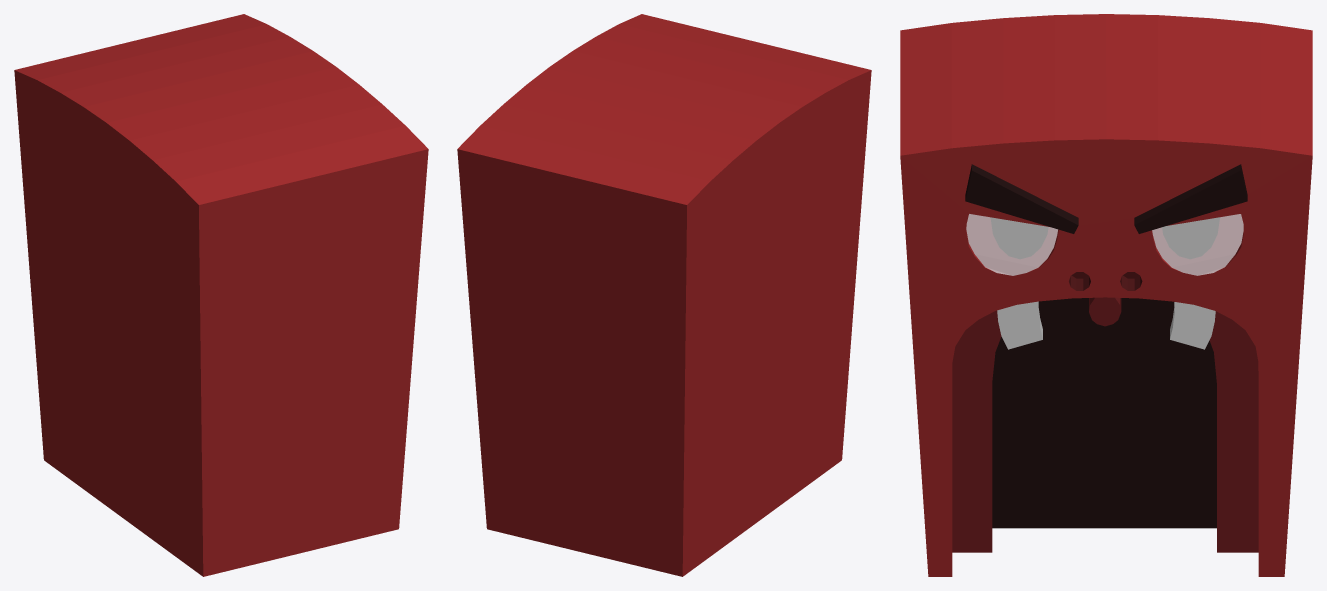
File: HuubKuub.fbx
3 renders of one model, left to right at view 1: azimuth 30°, elevation 25°; view 2: azimuth 150°, elevation 25°; view 3: azimuth 270°, elevation 25°, orthographic. The views are drawn at different scales.
Visible parts, largest first — view 1: Plane.001; view 2: Plane.001; view 3: Plane.001, Plane.002, Cylinder.001, Cylinder, Plane.003.
Boxes of the visible parts, x1=… form: Plane.001: x1=14, y1=14, x2=428, y2=576; Plane.001: x1=457, y1=14, x2=871, y2=576; Plane.001: x1=900, y1=14, x2=1312, y2=576; Plane.002: x1=997, y1=301, x2=1042, y2=349; Cylinder.001: x1=1162, y1=217, x2=1219, y2=259; Cylinder: x1=990, y1=217, x2=1048, y2=259; Plane.003: x1=1170, y1=302, x2=1215, y2=349.
Size of the model in its own units: 99.39 by 158 by 132.
1 material, 1 textured.
